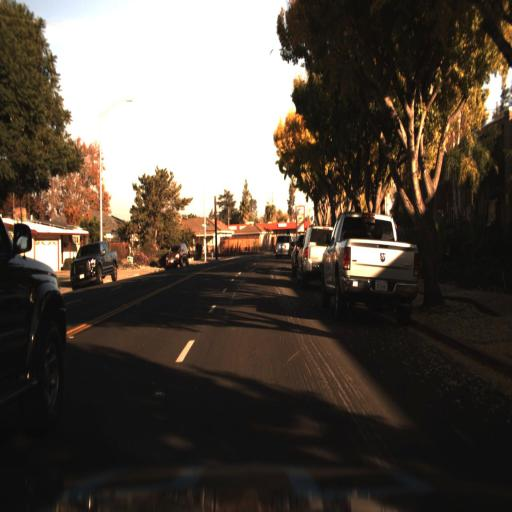car: (0, 209, 73, 452), (314, 207, 419, 322), (297, 223, 340, 288), (71, 241, 118, 286), (161, 239, 190, 271), (164, 237, 190, 269), (272, 231, 294, 261)
